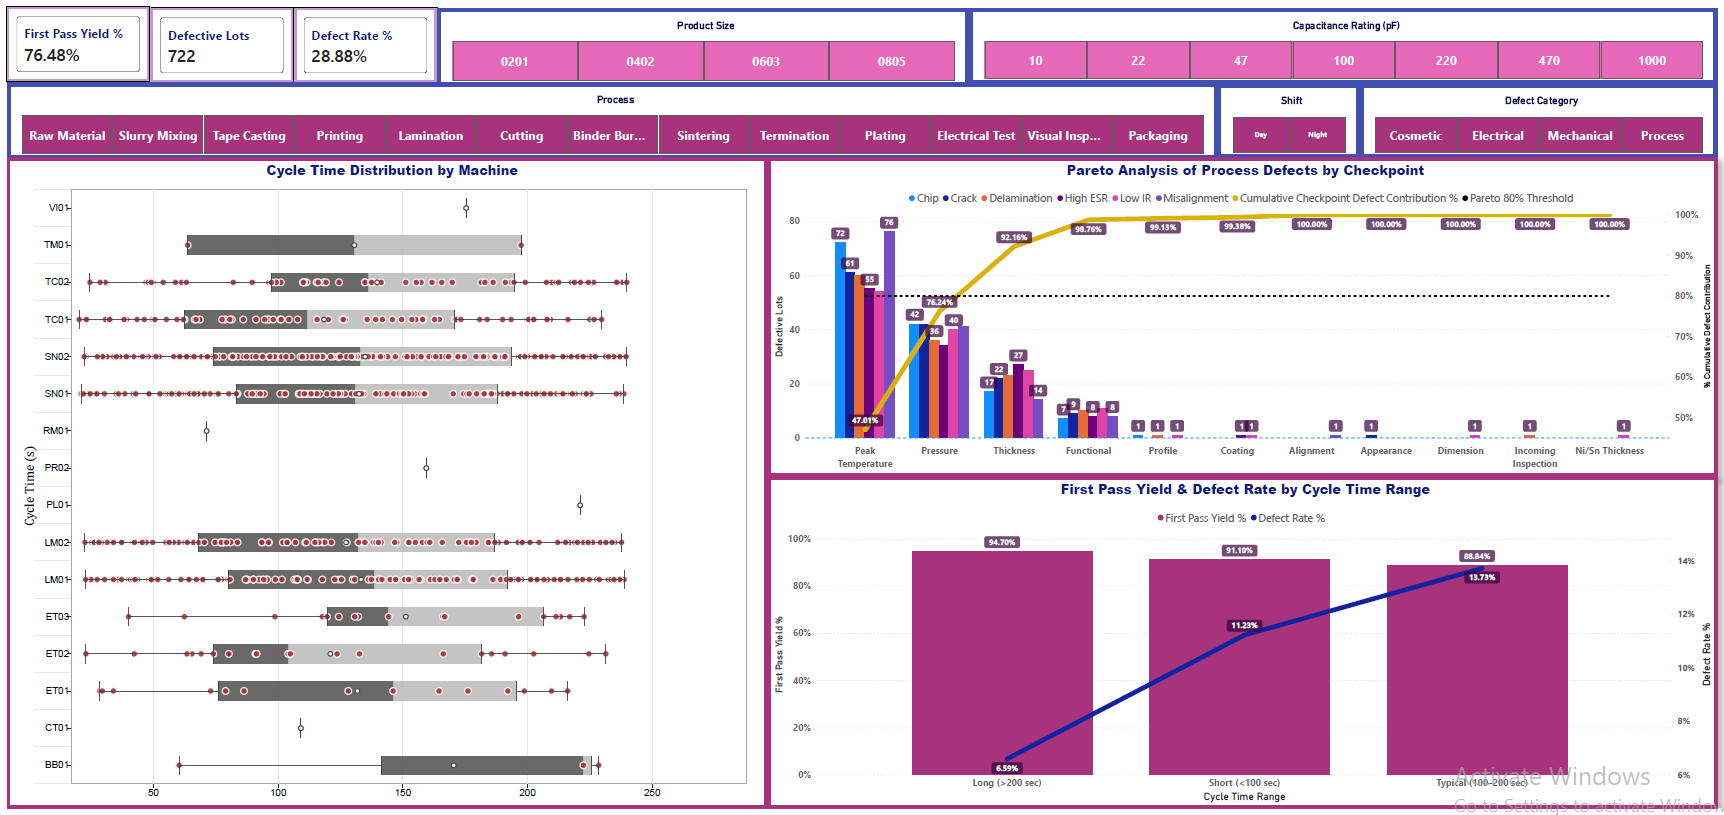

Layout of this report page (visuals, bound fields, positions):
{"tool":"powerbi","page":{"name":"Process Performance & Diagnostics","canvas":[3050,1400],"ordinal":2},"visuals":[{"type":"cardVisual","fields":{"Data":["mlcc_manufacturing fact_manufacturing.Defective Lots"]},"box":[272,6,250,132],"z":0},{"type":"cardVisual","fields":{"Data":["mlcc_manufacturing fact_manufacturing.Defect Rate %"]},"box":[522,6,250,132],"z":1000},{"type":"cardVisual","fields":{"Data":["mlcc_manufacturing fact_manufacturing.First Pass Yield %"]},"box":[22,4,250,132],"z":2000},{"type":"slicer","title":"Product Size","fields":{"Values":["mlcc_manufacturing dim_product.Product_Size"]},"box":[772,8,925,135],"z":3000},{"type":"slicer","title":"Capacitance Rating (pF)","fields":{"Values":["mlcc_manufacturing dim_product.Capacitance_Rating_pF"]},"box":[1697.5,7.5,1302.5,132.5],"z":4000},{"type":"slicer","title":"Process","fields":{"Values":["mlcc_manufacturing dim_process.Process"]},"box":[23.3,136.7,2106.7,133.3],"z":5000},{"type":"BoxandWhiskerByMAQ1823AD39DT234AB532063E128AX","title":"Cycle Time Distribution by Machine","fields":{"measure":["Median(mlcc_manufacturing fact_manufacturing.Cycle_Time_sec)"],"category":["mlcc_manufacturing fact_manufacturing.Lot_ID"],"categoryGroup":["mlcc_manufacturing dim_machine.Machine"]},"box":[23.3,266.7,1323.3,1133.3],"z":6000},{"type":"slicer","title":"Defect Category","fields":{"Values":["mlcc_manufacturing fact_manufacturing.Defect_Category"]},"box":[2377.5,140,622.5,127.5],"z":7000},{"type":"slicer","title":"Shift","fields":{"Values":["mlcc_manufacturing fact_manufacturing.Shift"]},"box":[2130,140,248.3,128.3],"z":8000},{"type":"lineClusteredColumnComboChart","title":"Pareto Analysis of Process Defects by Checkpoint","fields":{"Category":["mlcc_manufacturing fact_manufacturing.Checkpoint"],"Series":["mlcc_manufacturing fact_manufacturing.Defect_Mode"],"Y":["mlcc_manufacturing fact_manufacturing.Defective Lots"],"Y2":["mlcc_manufacturing dim_date.Cumulative Checkpoint Defect Contribution %","mlcc_manufacturing fact_manufacturing.Pareto 80% Threshold"]},"box":[1346.7,266.7,1653.3,556.7],"z":9000},{"type":"lineStackedColumnComboChart","title":"First Pass Yield & Defect Rate by Cycle Time Range","fields":{"Category":["mlcc_manufacturing fact_manufacturing.Cycle Time Condition"],"Y":["mlcc_manufacturing fact_manufacturing.First Pass Yield %"],"Y2":["mlcc_manufacturing fact_manufacturing.Defect Rate %"]},"box":[1346.7,823.3,1653.3,576.7],"z":10000}]}

Visuals, with their boxes in screenshot pixels (x1, y1, x2, y2), scaled from the page's 3050x1400 canvas onto the 1724x815 screenshot:
cardVisual - mlcc_manufacturing fact_manufacturing.Defective Lots: detection(154, 3, 295, 80)
cardVisual - mlcc_manufacturing fact_manufacturing.Defect Rate %: detection(295, 3, 436, 80)
cardVisual - mlcc_manufacturing fact_manufacturing.First Pass Yield %: detection(12, 2, 154, 79)
"Product Size" slicer: detection(436, 5, 959, 83)
"Capacitance Rating (pF)" slicer: detection(960, 4, 1696, 82)
"Process" slicer: detection(13, 80, 1204, 157)
"Cycle Time Distribution by Machine" BoxandWhiskerByMAQ1823AD39DT234AB532063E128AX: detection(13, 155, 761, 814)
"Defect Category" slicer: detection(1344, 82, 1696, 156)
"Shift" slicer: detection(1204, 82, 1344, 156)
"Pareto Analysis of Process Defects by Checkpoint" lineClusteredColumnComboChart: detection(761, 155, 1696, 479)
"First Pass Yield & Defect Rate by Cycle Time Range" lineStackedColumnComboChart: detection(761, 479, 1696, 814)
